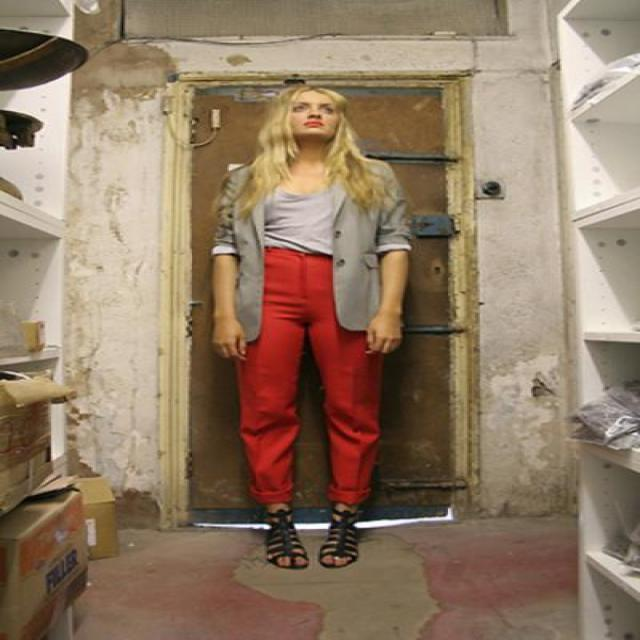jacket: (212, 200, 410, 344)
pants: (238, 243, 394, 512)
shirt: (253, 178, 349, 251)
shoe: (251, 494, 376, 568)
